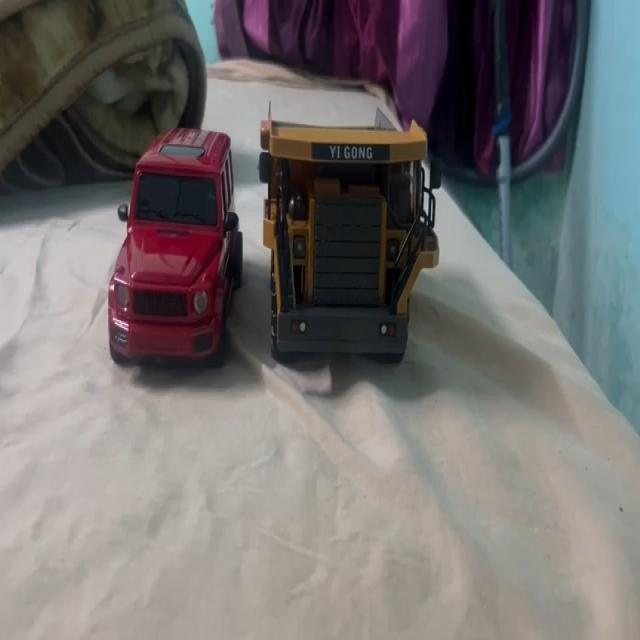dump_truck: (254, 105, 433, 360)
light_vehicle: (104, 114, 242, 366)
